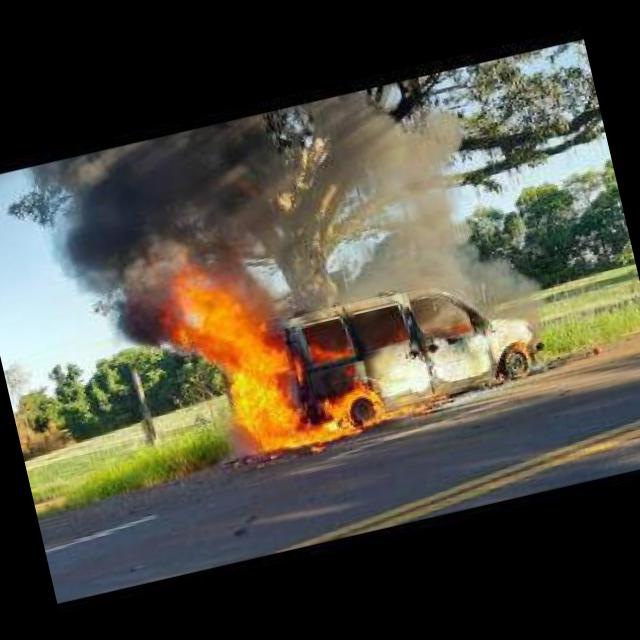fire: (161, 214, 450, 468)
smoke: (40, 107, 312, 371), (306, 87, 528, 350)
